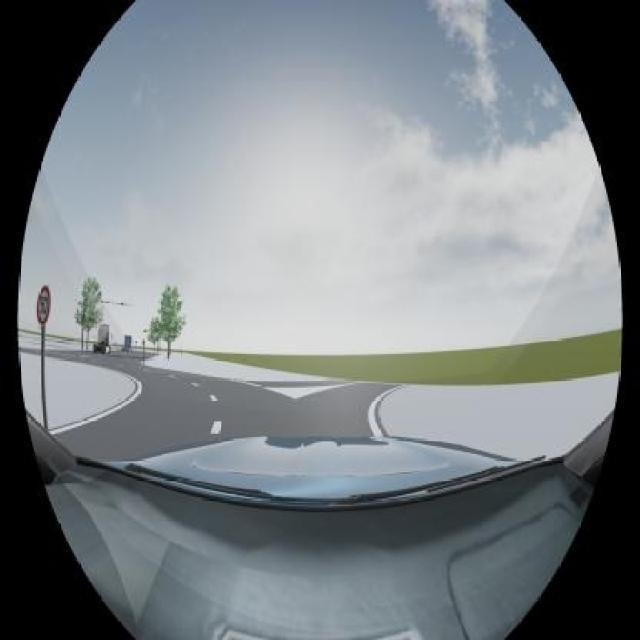forb_speed_over_50: (36, 285, 50, 324)
